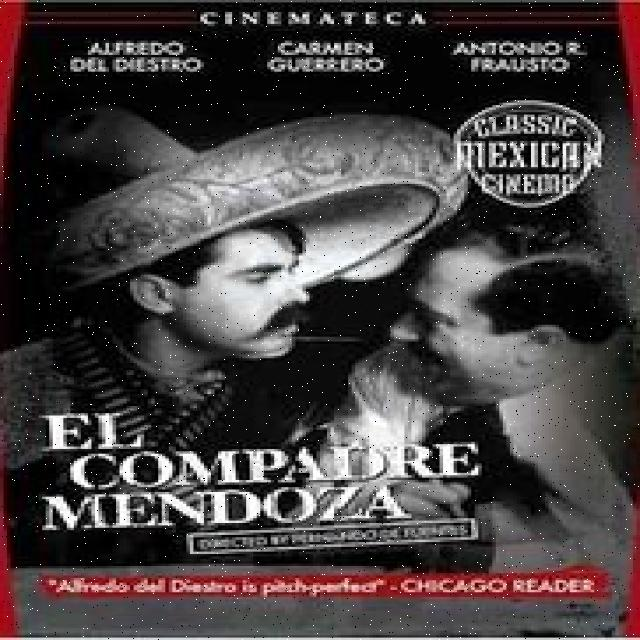movie-judul: (34, 408, 502, 554)
picture: (16, 103, 640, 565)
